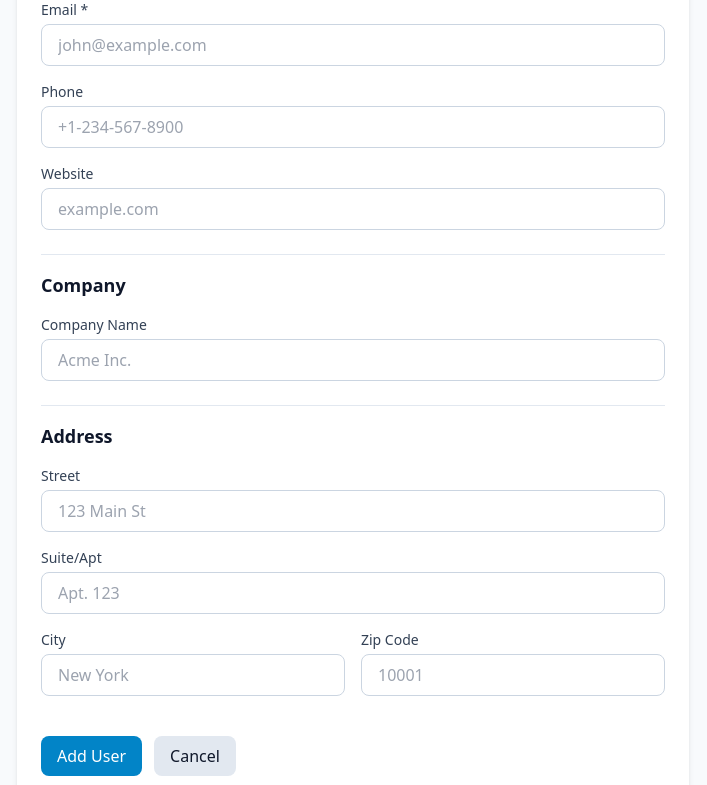
AddUser Form › shows validation error when name is empty
(page scrolled)
Click the button "Add User" at (92, 756), box top-left (41, 736), bottom-right (142, 776)
(page scrolled)
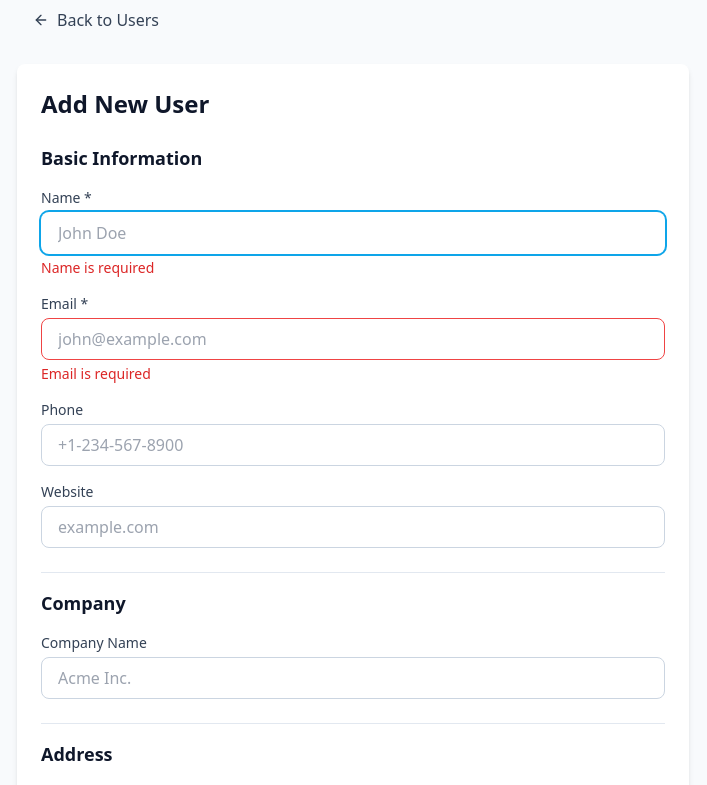
Check: the text "Name is required" is shown, box top-left (41, 258), bottom-right (154, 277)
